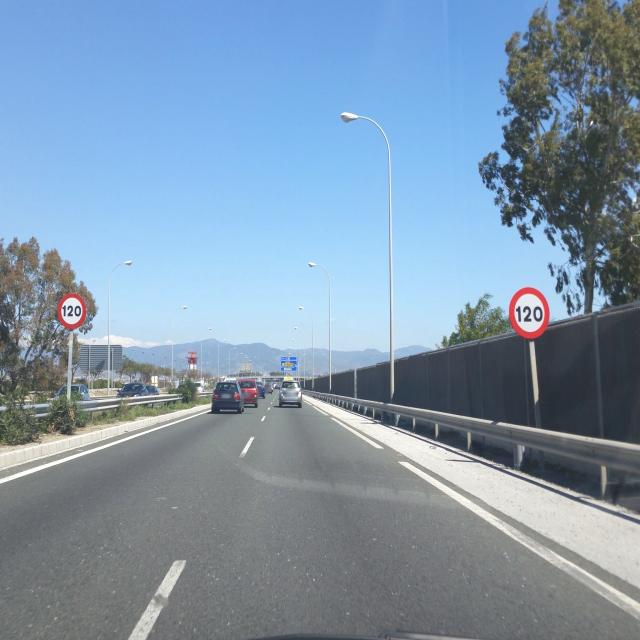car: (210, 380, 244, 414), (278, 379, 303, 408), (237, 378, 259, 408), (53, 384, 90, 401), (116, 382, 147, 398), (145, 384, 159, 395), (256, 383, 266, 398), (264, 381, 274, 393)
